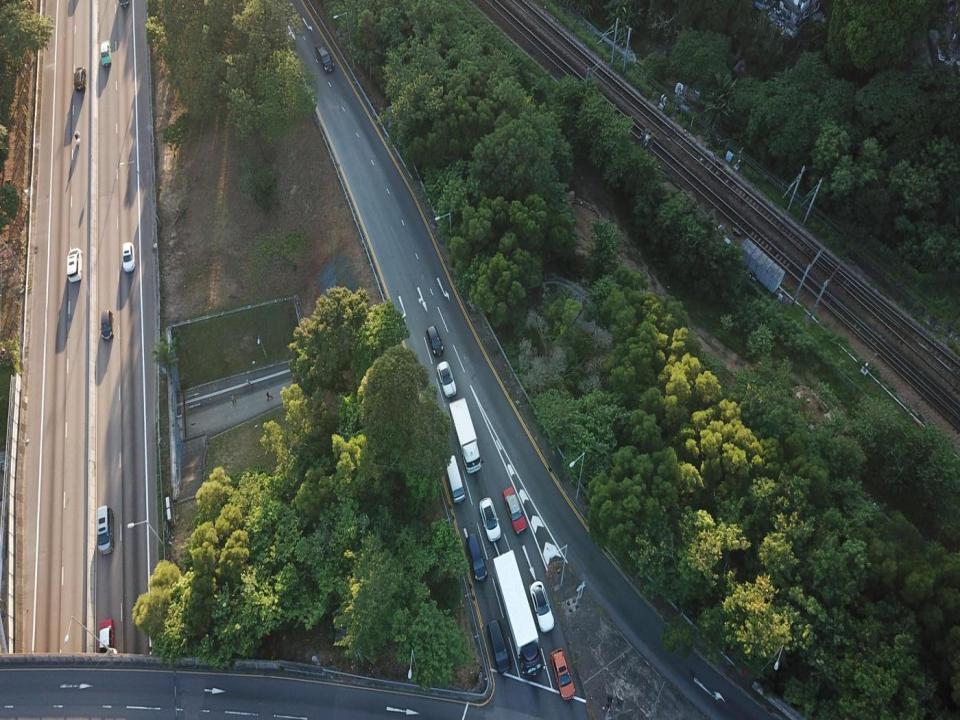car: (529, 578, 555, 635), (551, 647, 578, 701), (504, 485, 527, 537), (466, 534, 490, 583), (437, 359, 457, 398), (98, 618, 113, 668), (99, 309, 114, 341), (427, 326, 443, 356), (68, 250, 80, 284), (122, 242, 134, 272), (100, 38, 111, 66), (74, 65, 84, 90)
truck: (492, 550, 541, 677), (448, 396, 482, 474)
van: (488, 618, 511, 679), (442, 452, 467, 507), (95, 502, 117, 554), (314, 44, 334, 74)
